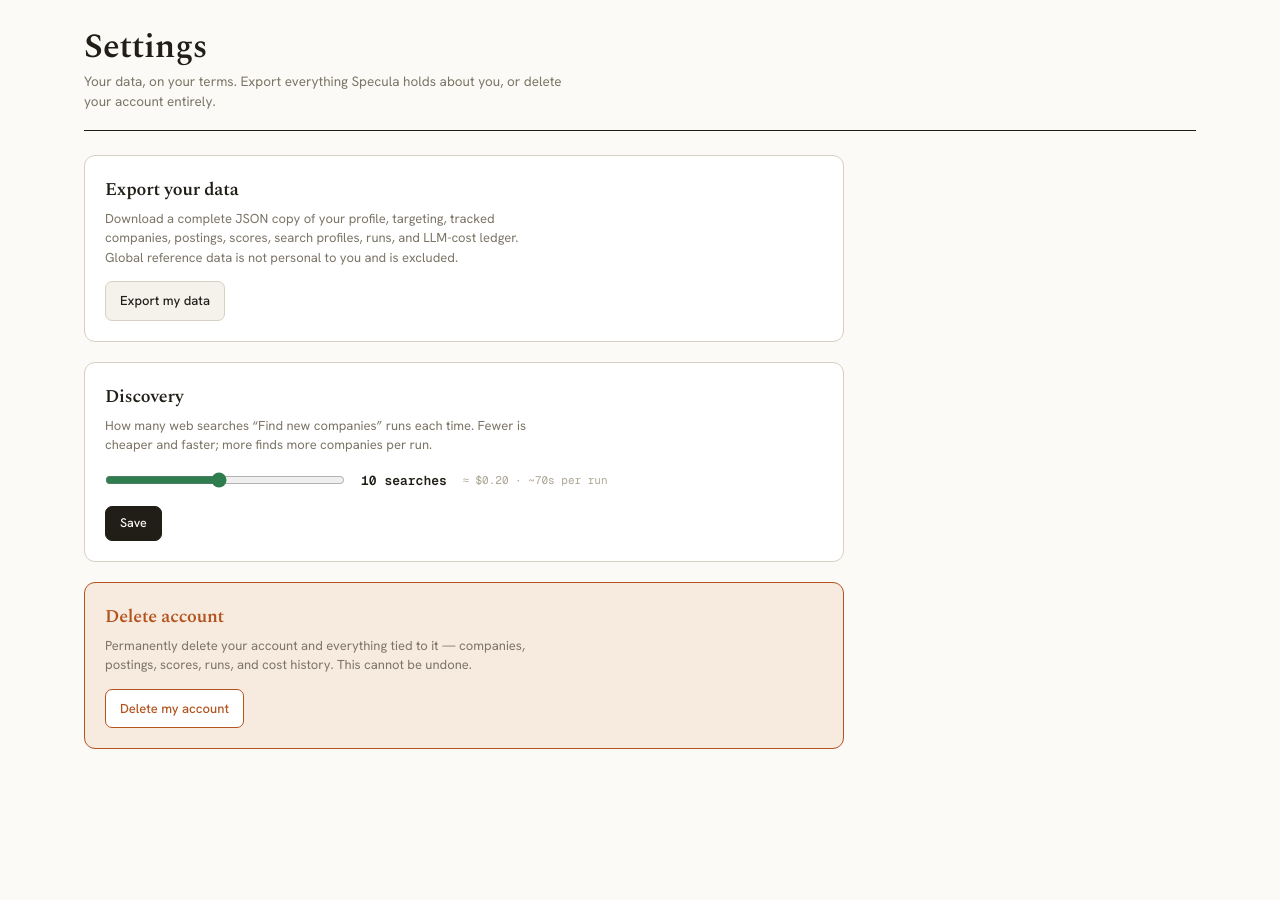
Test case: SettingsView › does not delete without an explicit confirm step
Click the button "Delete my account" at (174, 709), box 105,689 -> 244,728
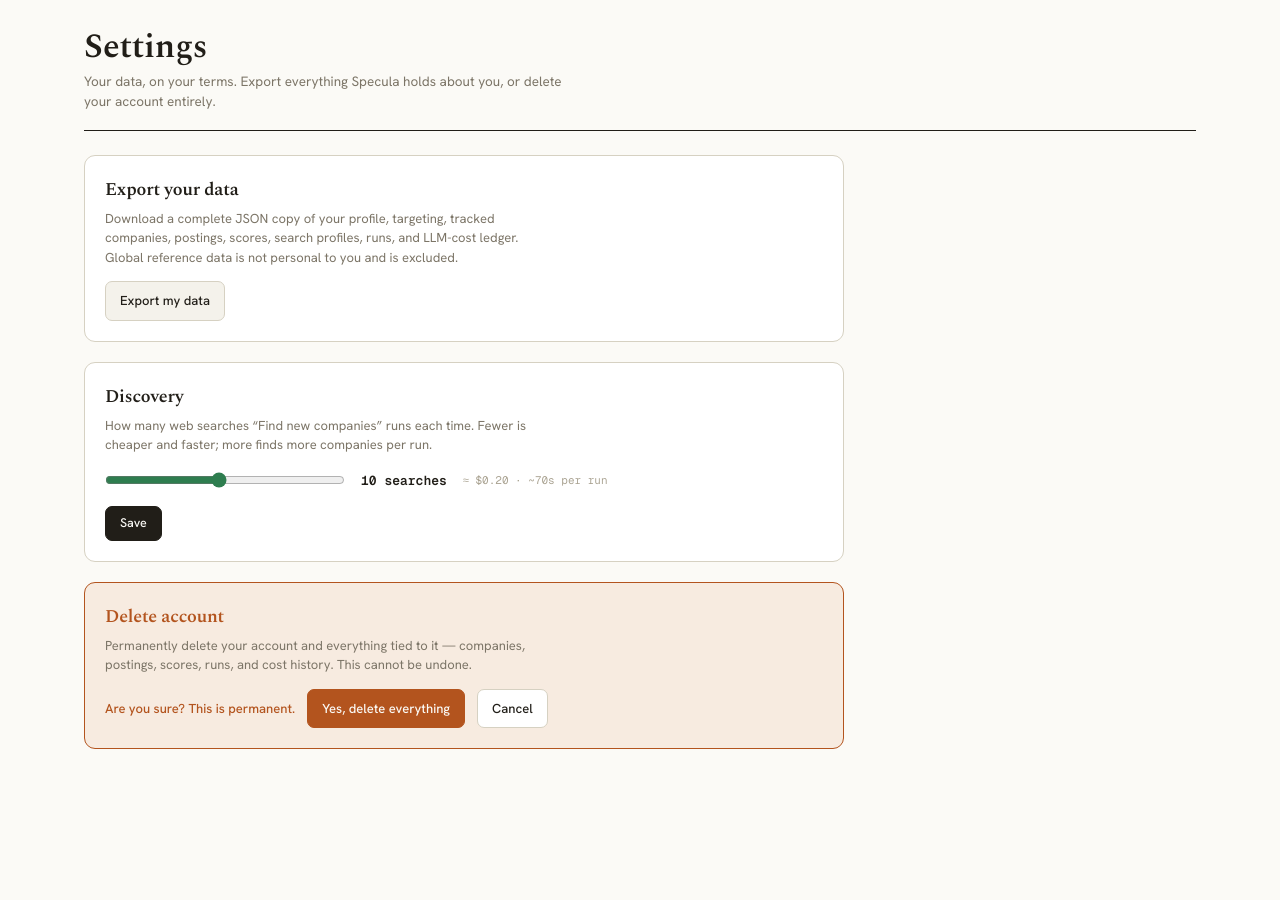
Now the text "Are you sure? This is permanent." is shown, box 105,699 -> 295,718
